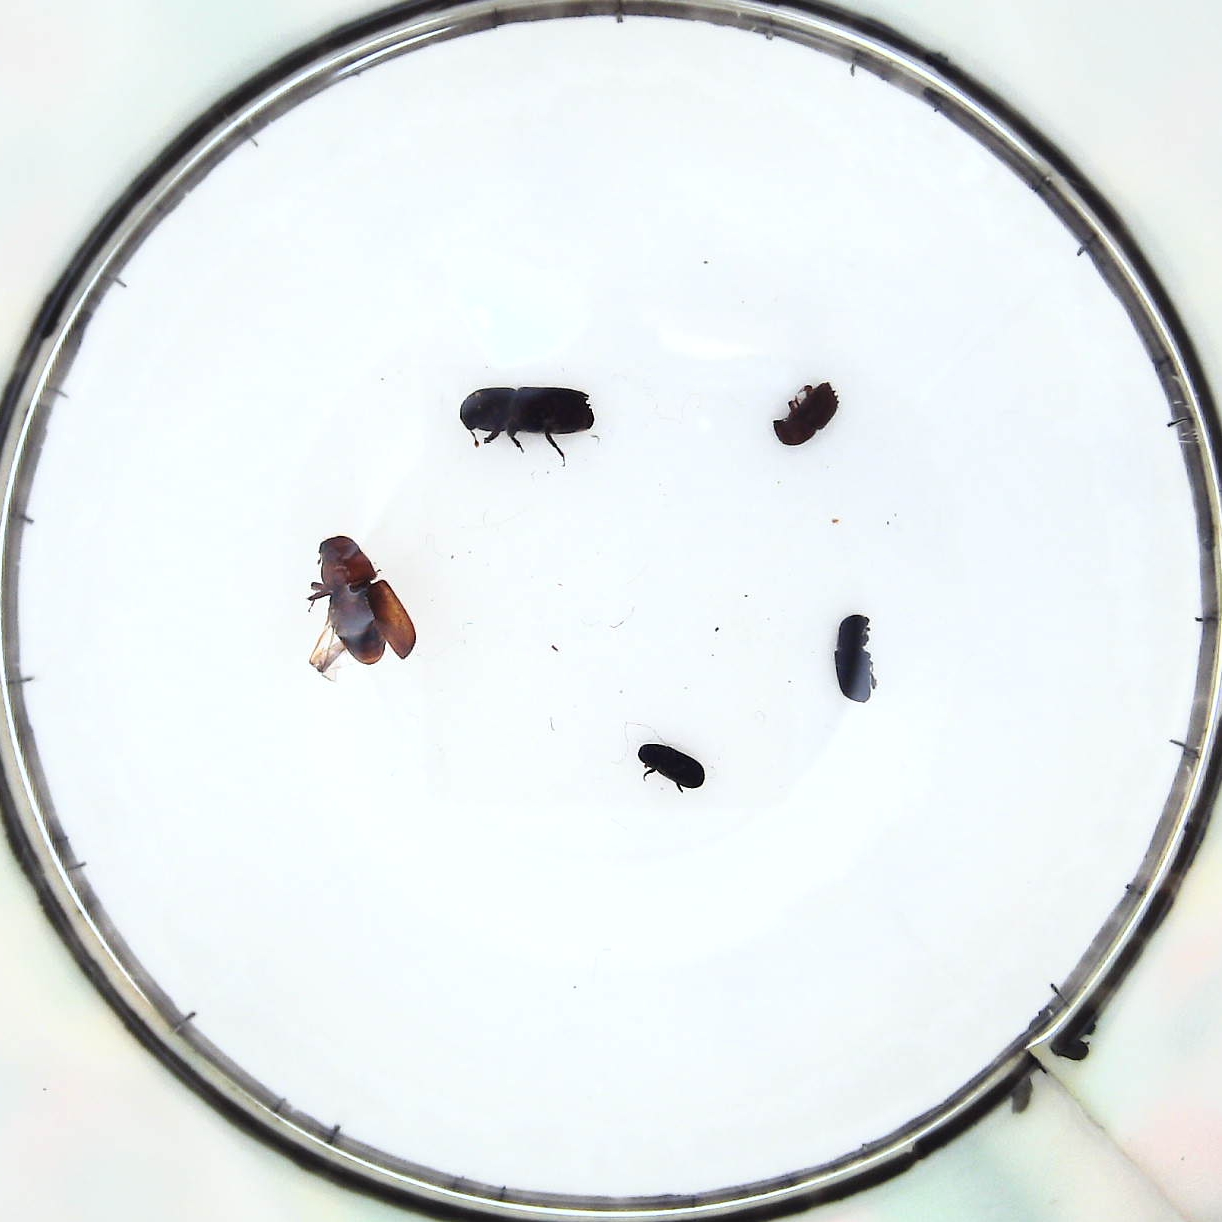Boerner: (460, 380, 599, 448)
Leconte: (311, 532, 419, 673)
Linnaeus: (770, 377, 833, 453)
armandi: (826, 615, 887, 701)
coleoptera: (636, 743, 709, 792)
